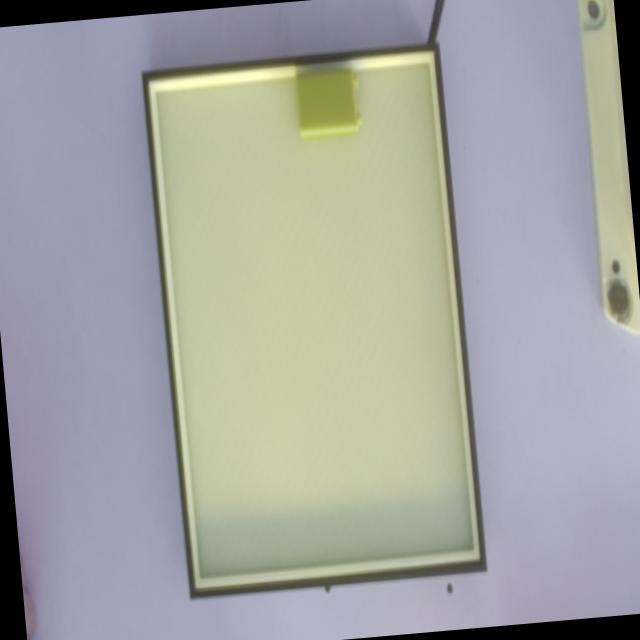bateria: (293, 65, 362, 134)
mesa: (141, 41, 486, 598)
